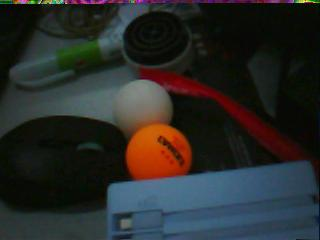oball: (126, 125, 191, 178)
